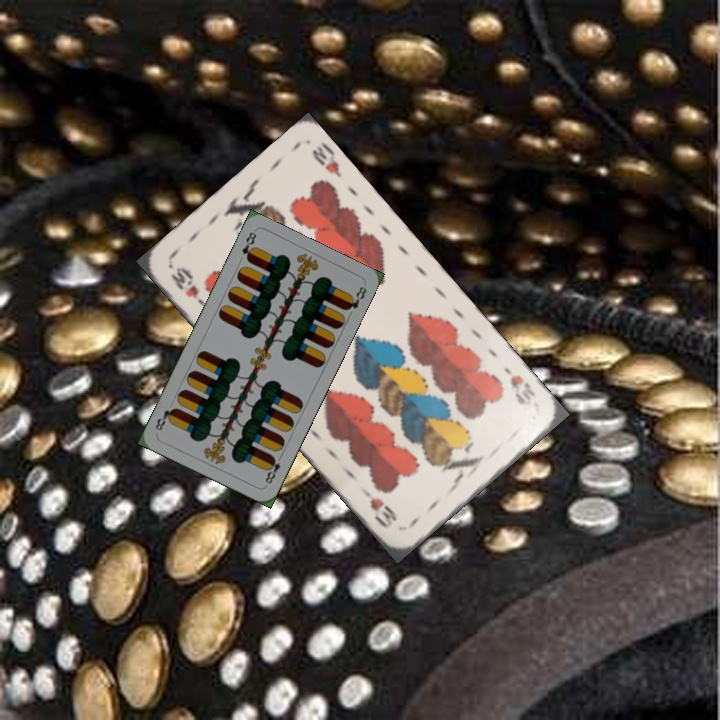E8: (261, 450, 285, 486), (238, 228, 259, 264)
H10: (166, 263, 210, 311), (500, 362, 538, 409)
